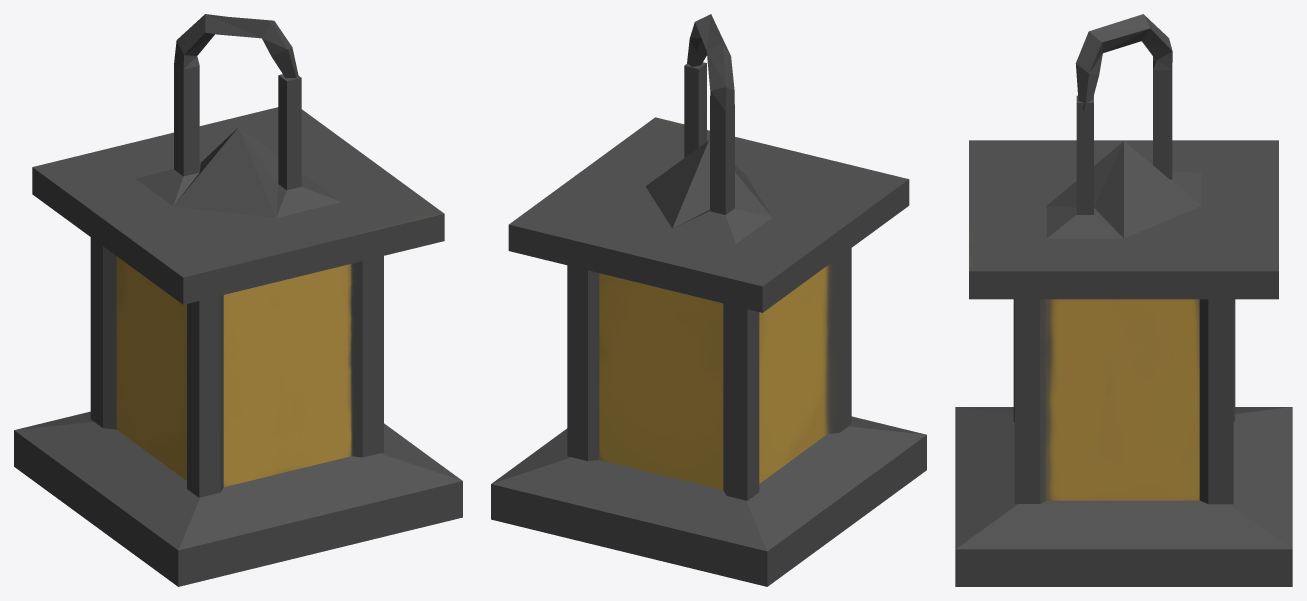
File: lamp.dae
3 views of the same model, side by side, from view 1: azimuth 30°, elevation 25°; view 2: azimuth 150°, elevation 25°; view 3: azimuth 270°, elevation 25° (orthographic). The views are drawn at different scales.
Parts seen in each view (by area): view 1: lamp; view 2: lamp; view 3: lamp.
Part boxes in pixels (bbox=[...]): lamp: bbox=[14, 14, 462, 586]; lamp: bbox=[491, 14, 926, 586]; lamp: bbox=[955, 14, 1292, 586].
Size of what is drawn, in the model's own units: 1.09 by 1.09 by 1.76.
